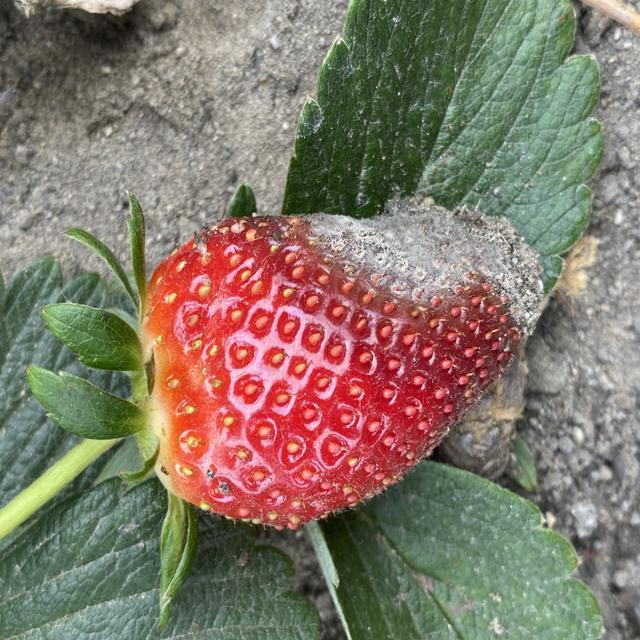Botrytis: (136, 204, 547, 532)
